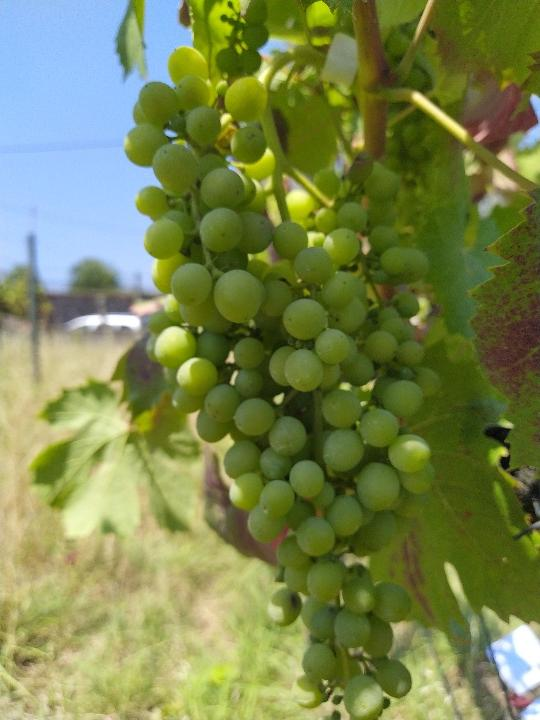grape: (125, 6, 445, 716)
